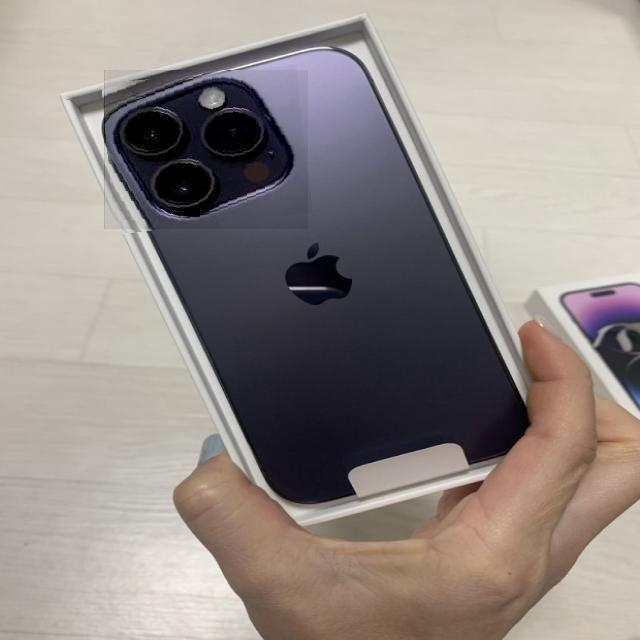Mobile: (100, 41, 539, 512)
